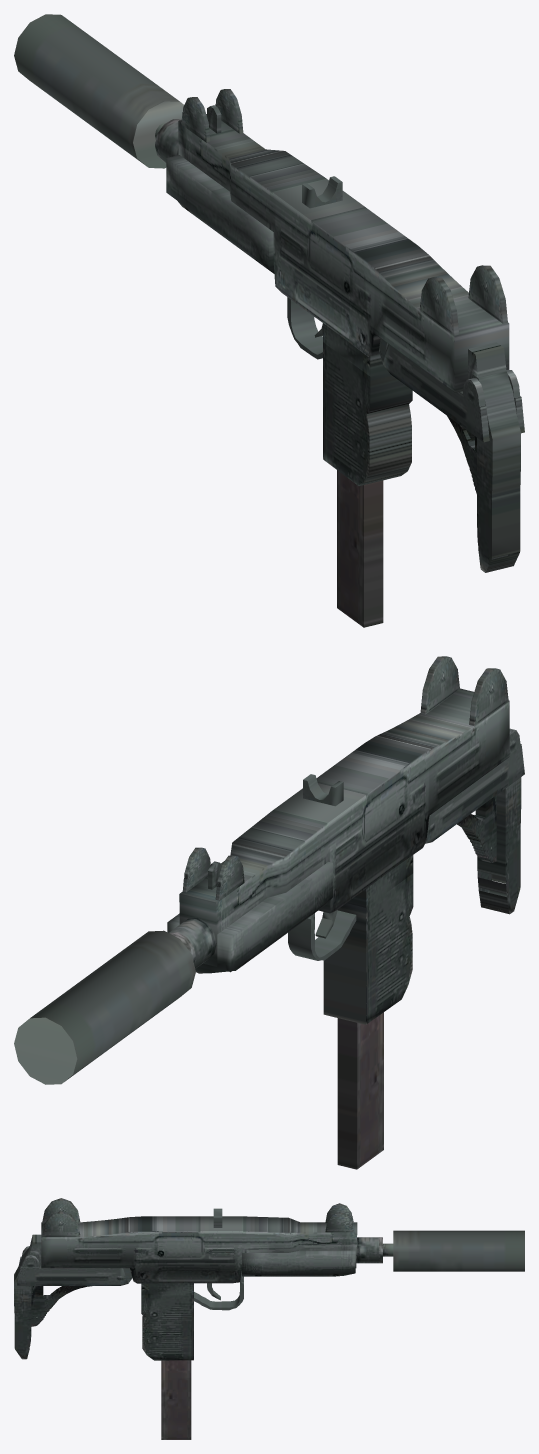
Rendered from uzi_adsfire.fbx.
3 renders of one model, top to bottom at view 1: azimuth 30°, elevation 25°; view 2: azimuth 150°, elevation 25°; view 3: azimuth 270°, elevation 25°, orthographic. The views are drawn at different scales.
Parts seen in each view (by area): view 1: uzi_body, uzi_silencer, uzi_grip, uzi_pad, uzi_clip, uzi_frontgrip, uzi_stocksupport, uzi_frontsight, uzi_trigger, uzi_barrel, uzi_bolt, uzi_stockframe; view 2: uzi_body, uzi_silencer, uzi_grip, uzi_clip, uzi_frontgrip, uzi_pad, uzi_stocksupport, uzi_trigger, uzi_frontsight, uzi_stockframe, uzi_barrel, uzi_bolt; view 3: uzi_body, uzi_silencer, uzi_grip, uzi_frontgrip, uzi_clip, uzi_stocksupport, uzi_pad, uzi_stockframe, uzi_barrel, uzi_frontsight, uzi_trigger.
Part boxes in pixels (x1,y1,x2,y2): uzi_body: (178,114,509,392); uzi_silencer: (14,14,183,168); uzi_grip: (323,323,412,486); uzi_pad: (468,342,520,572); uzi_clip: (337,470,383,627); uzi_frontgrip: (166,155,274,273); uzi_stocksupport: (379,339,524,442); uzi_frontsight: (181,89,243,142); uzi_trigger: (287,297,322,359); uzi_barrel: (155,119,181,162); uzi_bolt: (302,176,342,208); uzi_stockframe: (447,416,476,493); uzi_body: (179,656,509,966); uzi_silencer: (14,930,195,1084); uzi_grip: (323,855,413,1024); uzi_clip: (337,1012,383,1169); uzi_frontgrip: (167,861,332,973); uzi_pad: (477,777,521,914); uzi_stocksupport: (425,728,524,843); uzi_trigger: (288,910,356,960); uzi_frontsight: (182,847,244,901); uzi_stockframe: (457,795,496,862); uzi_barrel: (169,917,216,968); uzi_bolt: (303,774,343,806); uzi_body: (41,1198,357,1283); uzi_silencer: (393,1230,524,1271); uzi_grip: (141,1283,193,1360); uzi_frontgrip: (242,1250,355,1276); uzi_clip: (161,1360,191,1439); uzi_stocksupport: (17,1246,132,1285); uzi_pad: (14,1234,41,1359); uzi_stockframe: (31,1286,91,1326); uzi_barrel: (356,1237,393,1263); uzi_frontsight: (325,1203,353,1232); uzi_trigger: (194,1271,243,1310).
Bounding box in the file's own units: 2.18 × 13.68 × 27.31.
